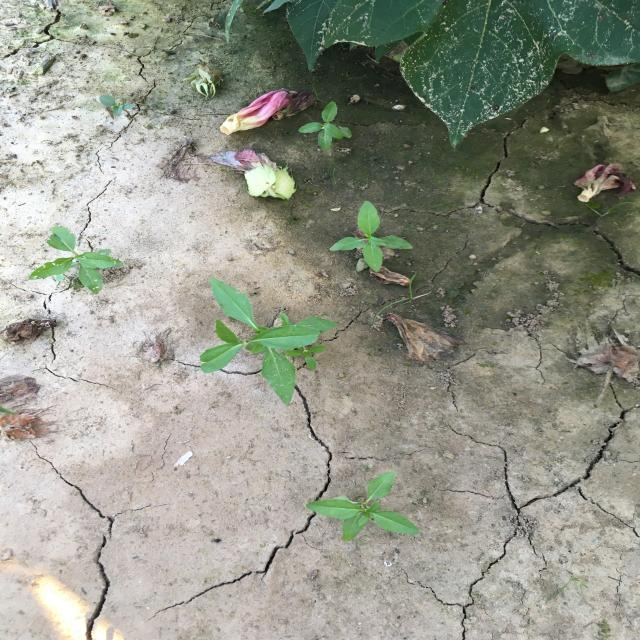Eclipta: (197, 276, 340, 406), (304, 470, 421, 543), (27, 225, 126, 295), (328, 200, 414, 273), (297, 100, 353, 152)
